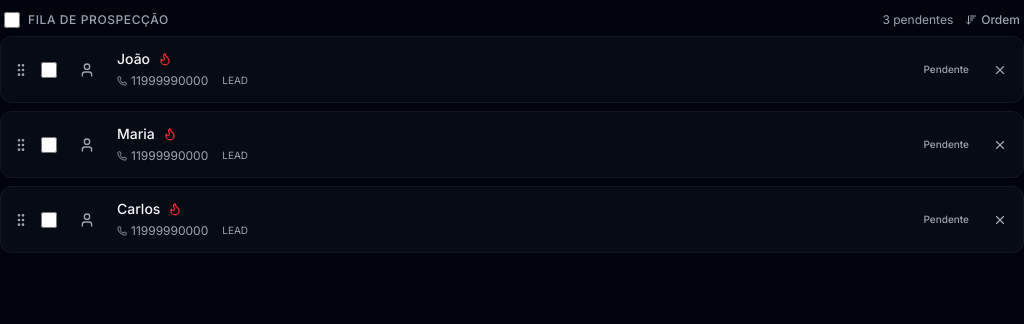
Test case: CallQueue — batch selection (CP-4.5) › Remover selecionados mostra confirmação inline
Click the checkbox named "Selecionar João" at (49, 70), box [41,62,57,78]
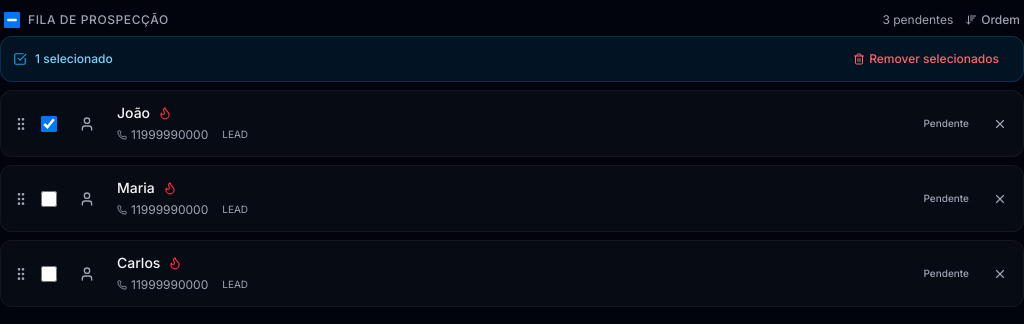
Click the button "Remover selecionados" at (926, 59), box [841,47,1011,71]
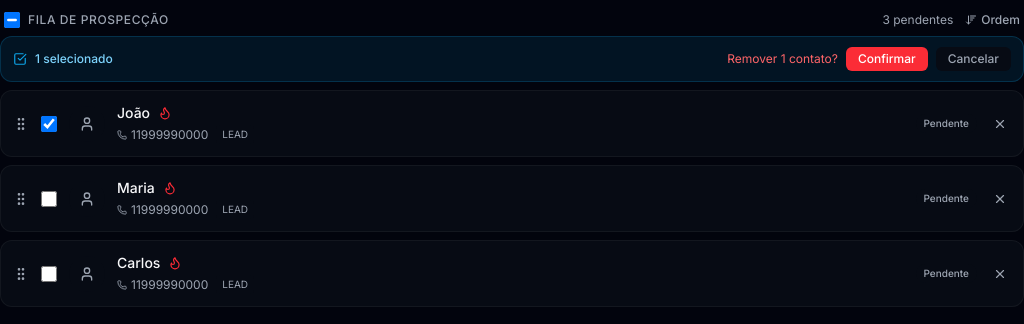
Now the text "Remover 1 contato?" is shown, box [727,51,838,67]
Now the button "Confirmar" is shown, box [846,47,928,71]
Now the button "Cancelar" is shown, box [936,47,1011,71]
